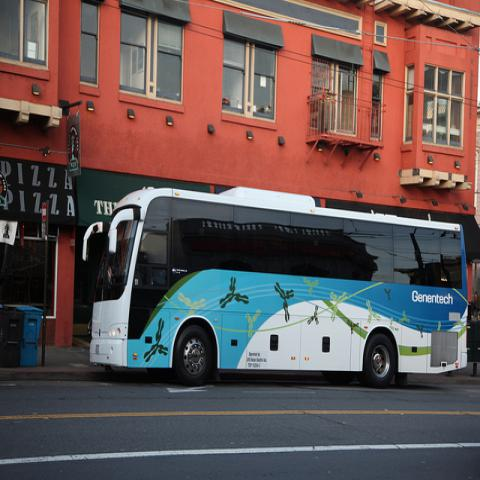bus: (78, 180, 470, 386)
